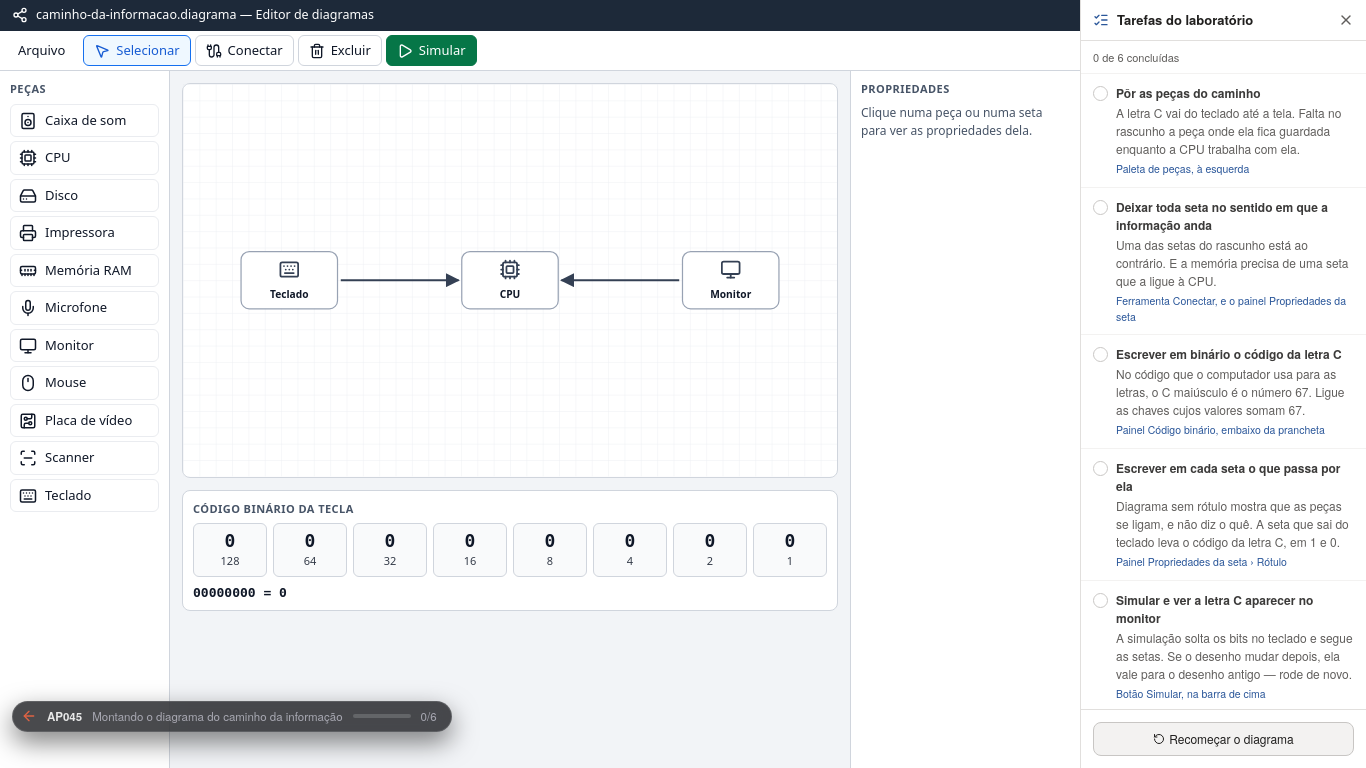
Test: o diagrama do caminho da informação › a seta ao contrário faz a simulação parar, e não acende letra
Click the button with aria-label "Simular".
click(431, 51)  # box [386,35,476,66]
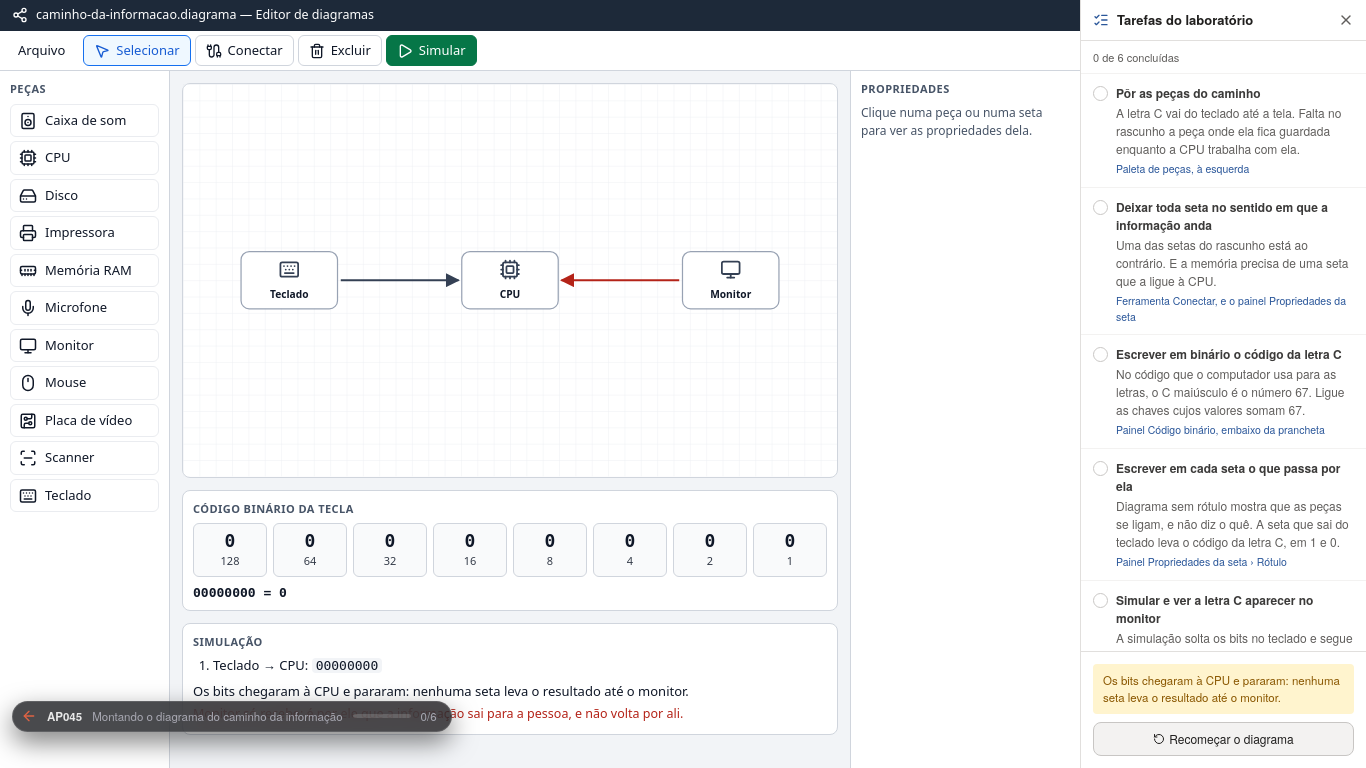
Expected: the text "Os bits chegaram à CPU e pararam" is shown, [193,682,689,700]
